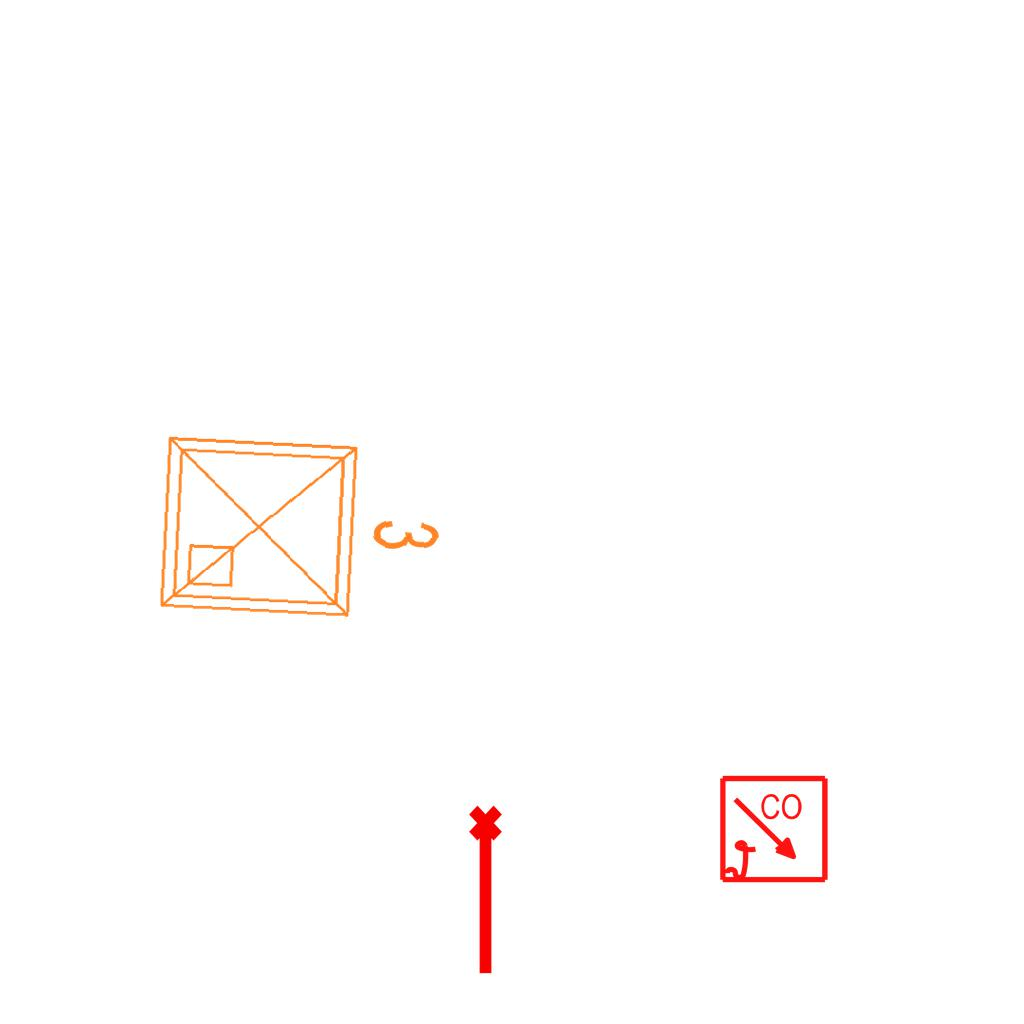ASR_Ansaugoeffnung: (465, 803, 511, 979)
Einbaudownlights_LED_Konferenzraeume: (144, 413, 456, 637)
ROA_Rauchmelder_optisch_mit_Signalgeber_(Sockelsirene): (718, 774, 831, 887)
